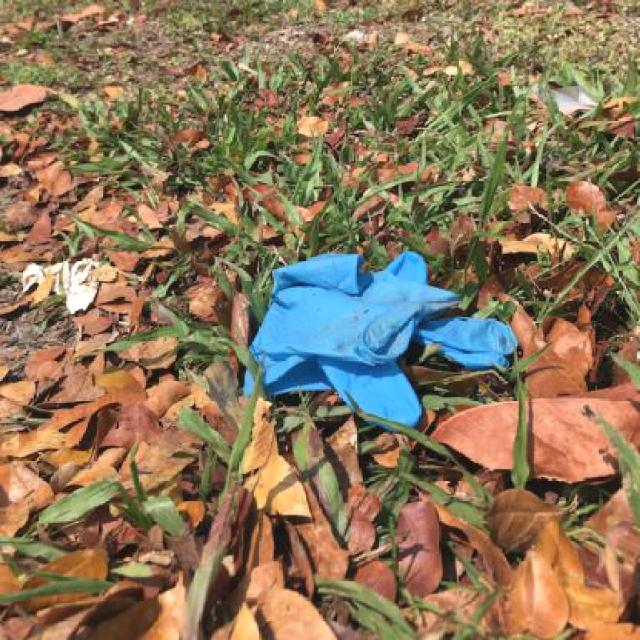glove: (250, 242, 518, 432)
